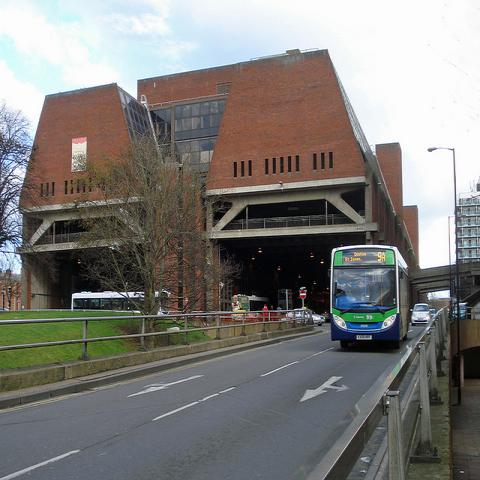bus: (330, 244, 412, 349), (71, 290, 170, 314), (231, 295, 268, 322)
car: (286, 310, 326, 326), (410, 302, 431, 326), (321, 311, 330, 322)
